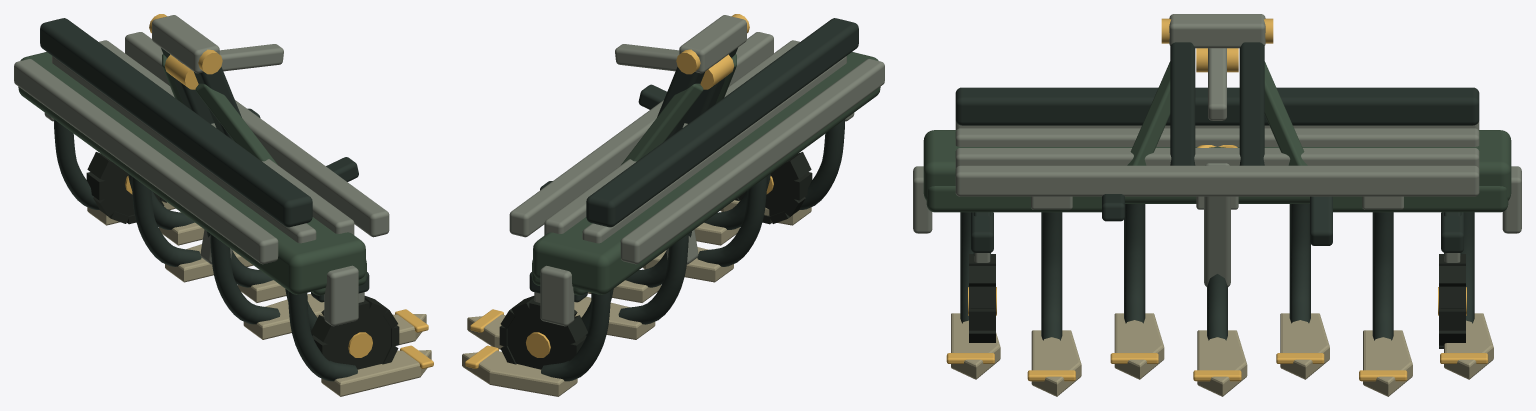
File: cultivator.compact.m1.glb
The picture shows the model from 3 angles, left to right: view 1: azimuth 30°, elevation 25°; view 2: azimuth 150°, elevation 25°; view 3: azimuth 270°, elevation 25°; orthographic projection. The views are drawn at different scales.
Visible parts, largest first — view 1: cultivatorToolbar, toolbarCrossRail1, cultivatorFrame, toolbarCrossRail4, toolbarCrossRail2, gaugeWheelRight.tire, sweep7, tine7, tine3, tine5, hitchMastCap, toolbarCrossRail3 (+21 smaller); view 2: cultivatorToolbar, toolbarCrossRail1, cultivatorFrame, toolbarCrossRail4, sweep1, toolbarCrossRail2, gaugeWheelLeft.tire, tine1, tine3, tine5, hitchMastCap, toolbarCrossRail3 (+22 smaller); view 3: toolbarCrossRail4, cultivatorToolbar, toolbarCrossRail2, toolbarCrossRail3, cultivatorFrame, hitchMastLeft, hitchMastRight, hitchMastCap, tine2, tine6, cultivatorWingRight, cultivatorWingLeft (+32 smaller).
Boxes of the visible parts, <box> form: cultivatorToolbar: <box>40,18,312,227</box>; toolbarCrossRail1: <box>14,59,278,264</box>; cultivatorFrame: <box>18,52,365,294</box>; toolbarCrossRail4: <box>125,32,389,237</box>; toolbarCrossRail2: <box>52,56,316,243</box>; gaugeWheelRight.tire: <box>329,310,391,369</box>; sweep7: <box>321,350,431,396</box>; tine7: <box>288,291,357,381</box>; tine3: <box>131,176,201,266</box>; tine5: <box>210,234,280,324</box>; hitchMastCap: <box>152,15,219,73</box>; toolbarCrossRail3: <box>99,40,354,234</box>; cultivatorToolbar: <box>586,18,858,227</box>; toolbarCrossRail1: <box>620,59,884,264</box>; cultivatorFrame: <box>533,52,880,294</box>; toolbarCrossRail4: <box>509,32,773,237</box>; sweep1: <box>462,350,577,396</box>; toolbarCrossRail2: <box>582,56,846,243</box>; gaugeWheelLeft.tire: <box>507,310,569,369</box>; tine1: <box>541,291,610,381</box>; tine3: <box>618,234,688,324</box>; tine5: <box>697,176,767,266</box>; hitchMastCap: <box>679,15,746,73</box>; toolbarCrossRail3: <box>544,40,799,235</box>; toolbarCrossRail4: <box>955,165,1479,196</box>; cultivatorToolbar: <box>955,87,1479,125</box>; toolbarCrossRail2: <box>955,128,1479,146</box>; toolbarCrossRail3: <box>955,148,1479,168</box>; cultivatorFrame: <box>923,130,1511,203</box>; hitchMastLeft: <box>1239,42,1264,165</box>; hitchMastRight: <box>1170,42,1195,165</box>; hitchMastCap: <box>1169,14,1265,48</box>; tine2: <box>1372,212,1393,340</box>; tine6: <box>1041,212,1062,340</box>; cultivatorWingRight: <box>926,186,1101,212</box>; cultivatorWingLeft: <box>1333,186,1508,212</box>.
Size of what is drawn, in the model's own units: 1.35 by 1.69 by 3.16.
